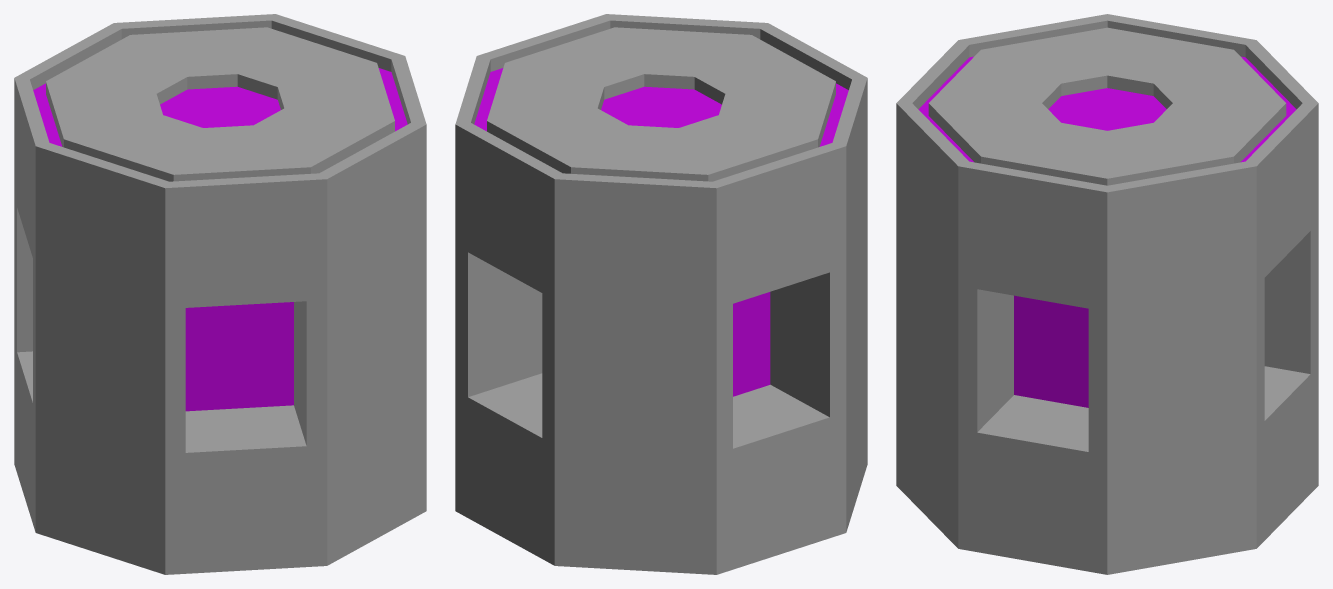
Rendered from SmallBattery.fbx.
The picture shows the model from 3 angles, left to right: view 1: azimuth 30°, elevation 25°; view 2: azimuth 150°, elevation 25°; view 3: azimuth 270°, elevation 25°; orthographic projection.
Parts seen in each view (by area): view 1: Cylinder; view 2: Cylinder; view 3: Cylinder.
Boxes of the visible parts, box(x1,y1,x2,y2) form: Cylinder: box(14, 14, 426, 574); Cylinder: box(455, 14, 867, 574); Cylinder: box(896, 14, 1318, 574).
Bounding box in the file's own units: 24 × 24 × 24.
